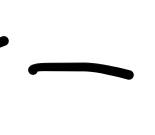minus: (28, 62, 134, 80)
